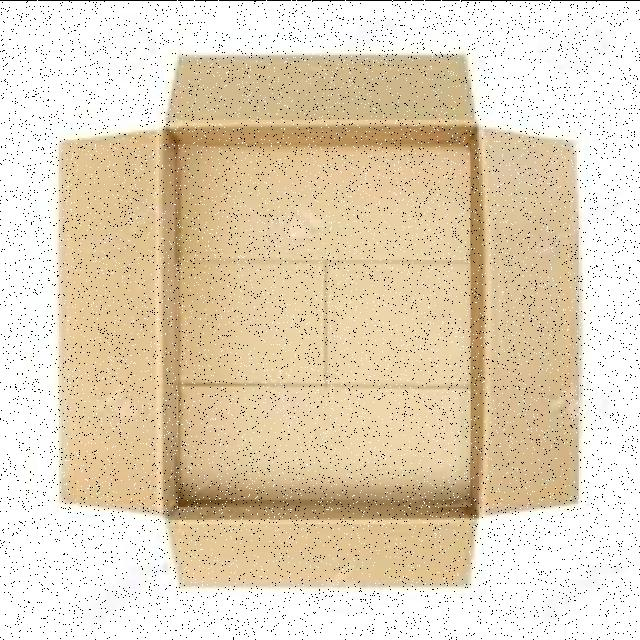normal: (178, 143, 471, 506)
